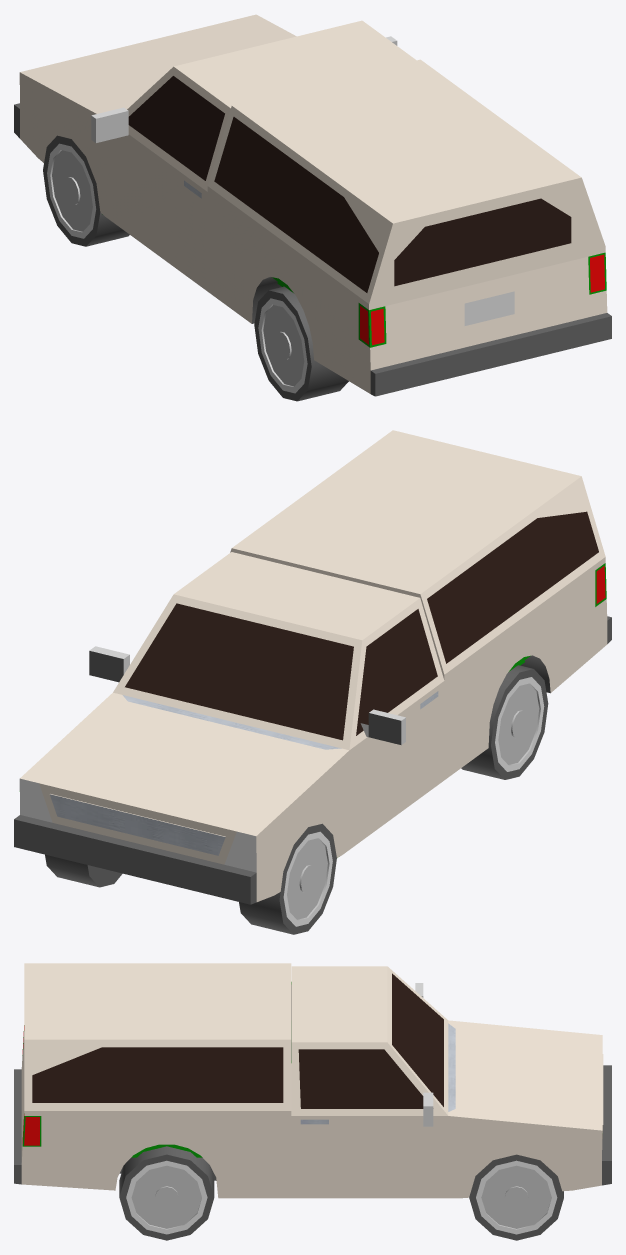
File: car04.glb
3 renders of one model, top to bottom at view 1: azimuth 30°, elevation 25°; view 2: azimuth 150°, elevation 25°; view 3: azimuth 270°, elevation 25°, orthographic. The views are drawn at different scales.
Visible parts, largest first — view 1: Geom3D (×12), Geom3D_Simple small pickup truck; view 2: Geom3D (×14); view 3: Geom3D (×12), Geom3D_Simple small pickup truck.
Part boxes in pixels (x1,y1,x2,y2): Geom3D (×12): (14,14,611,401); Geom3D_Simple small pickup truck: (102,214,606,347); Geom3D (×14): (14,430,611,934); Geom3D (×12): (14,963,611,1240); Geom3D_Simple small pickup truck: (22,982,291,1157).
Size of the model in its own units: 2.41 by 1.74 by 4.92.
10 materials, 1 textured.
